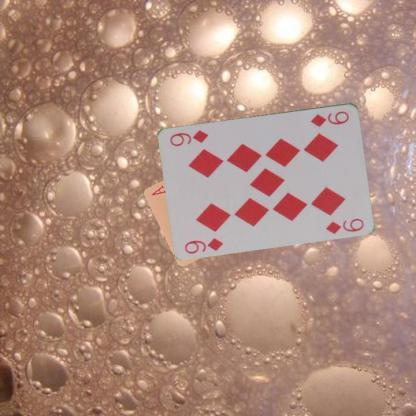9d: (308, 108, 351, 128), (182, 234, 225, 254)
